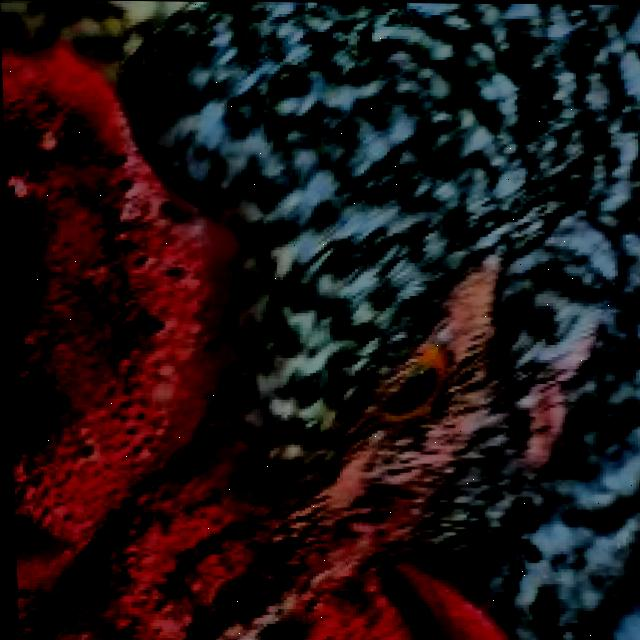Fowlpox: (3, 128, 238, 542)
